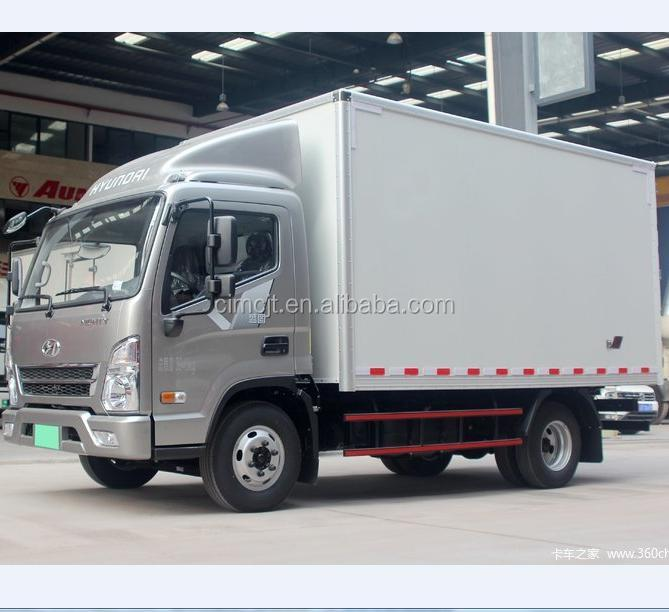Person: (236, 232, 275, 269)
Truck: (14, 76, 669, 512)
